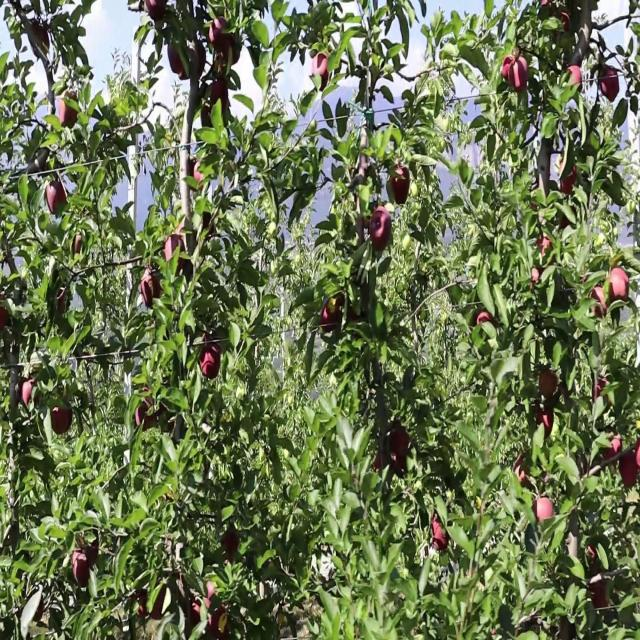apple: (180, 42, 207, 84), (388, 163, 412, 206), (372, 206, 392, 254), (140, 270, 164, 309), (140, 391, 162, 432), (620, 447, 640, 491), (56, 92, 80, 128), (600, 63, 620, 105), (180, 49, 204, 84), (48, 177, 68, 215), (200, 348, 222, 382), (164, 234, 186, 268), (588, 575, 608, 612), (80, 533, 100, 567), (212, 21, 233, 53), (52, 405, 73, 436), (72, 554, 91, 588), (560, 163, 579, 197), (140, 398, 159, 432), (32, 21, 52, 53), (536, 234, 555, 267), (512, 56, 529, 92), (592, 284, 609, 320), (432, 519, 450, 553), (392, 426, 411, 457), (320, 305, 340, 334), (212, 78, 229, 112), (540, 369, 559, 398), (604, 433, 623, 462), (168, 42, 184, 76), (612, 270, 630, 300), (144, 0, 167, 23), (536, 497, 555, 524), (148, 590, 165, 620), (312, 56, 330, 84), (224, 533, 240, 562), (536, 412, 555, 436), (516, 455, 531, 485), (24, 376, 39, 405), (212, 611, 230, 635), (136, 405, 151, 430), (568, 63, 583, 87), (556, 14, 572, 36), (136, 590, 148, 619), (88, 540, 100, 567), (392, 455, 408, 475), (504, 56, 515, 84), (192, 163, 204, 187), (540, 1, 555, 20), (356, 220, 367, 245), (560, 213, 575, 231), (56, 291, 68, 313), (532, 270, 544, 292), (372, 455, 383, 475), (0, 305, 8, 332), (348, 305, 359, 324), (192, 604, 201, 626), (76, 234, 84, 256), (36, 604, 45, 622)
